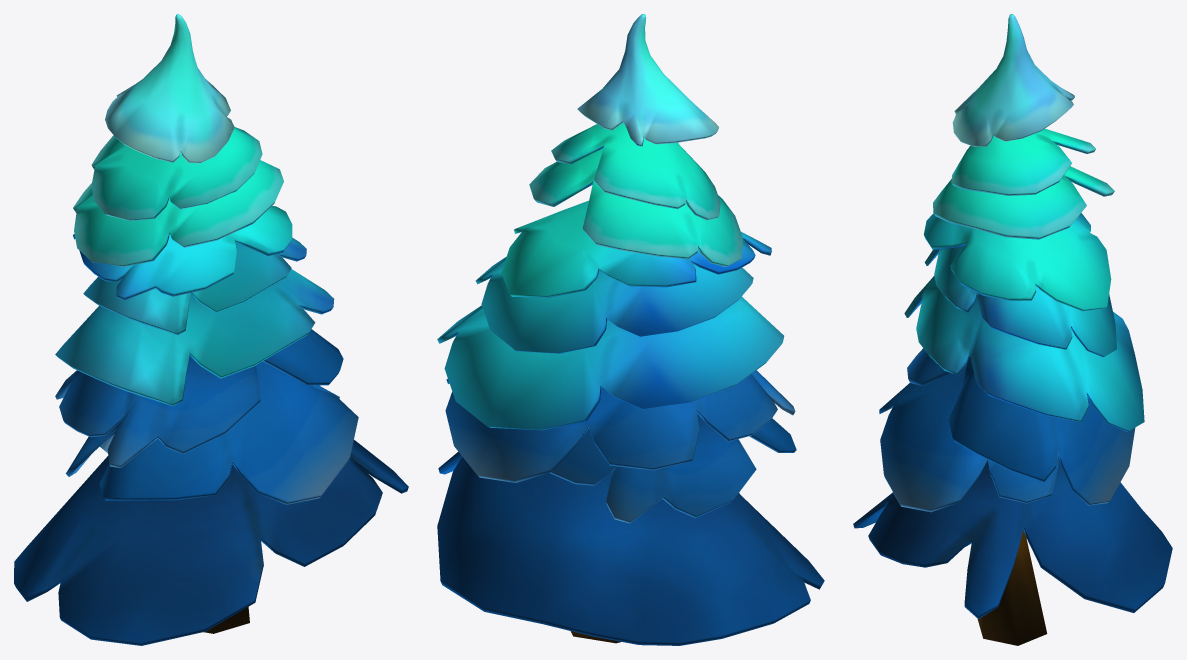
The model's file is TreeStyle2Blue_05.fbx.
The picture shows the model from 3 angles, left to right: view 1: azimuth 30°, elevation 25°; view 2: azimuth 150°, elevation 25°; view 3: azimuth 270°, elevation 25°; orthographic projection. The views are drawn at different scales.
Visible parts, largest first — view 1: TreeStyle2_05; view 2: TreeStyle2_05; view 3: TreeStyle2_05.
Part boxes in pixels (x1,y1,x2,y2): TreeStyle2_05: (14, 14, 408, 645); TreeStyle2_05: (437, 14, 824, 645); TreeStyle2_05: (853, 14, 1172, 645).
Bounding box in the file's own units: 806 × 1265 × 614.
